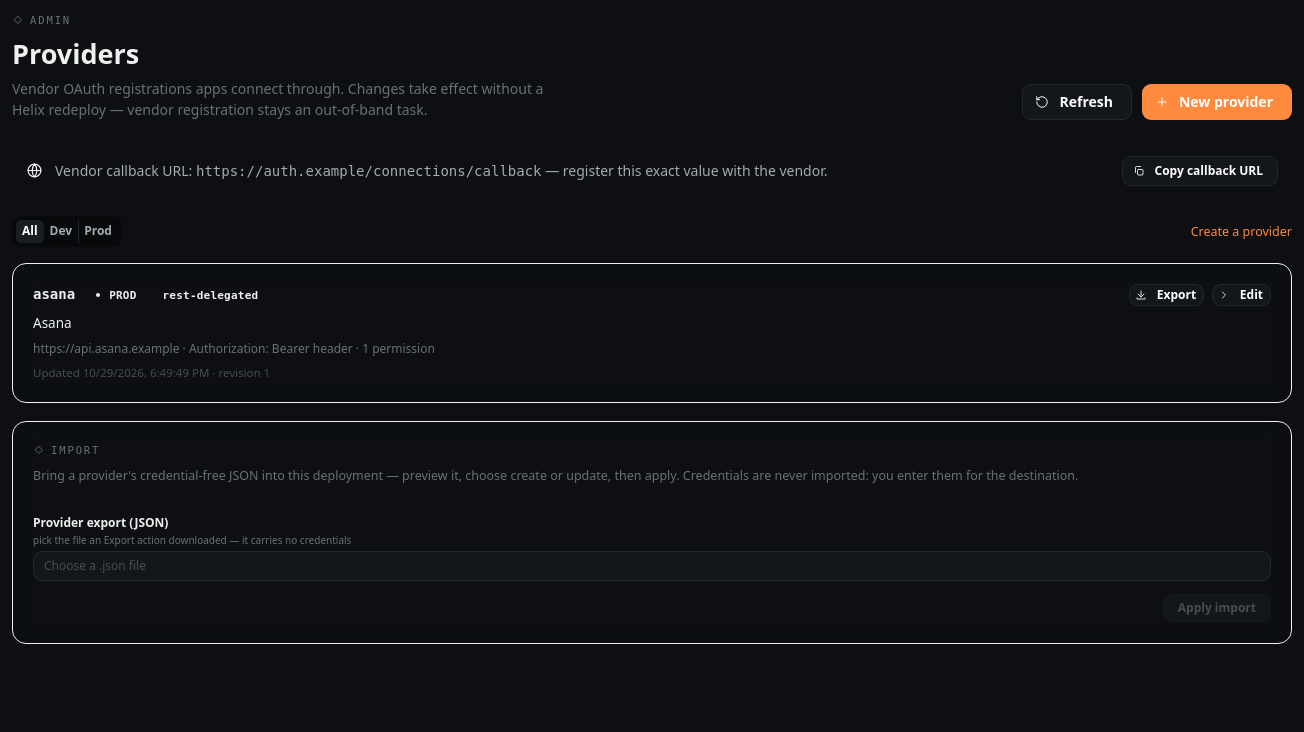
it: provider export › refuses a drifted response that is not a complete export — even one carrying credential fields
This screenshot has width=1304, height=732.
expect the text "asana" is shown: met, box left=33, top=284, right=75, bottom=306
Click the button "Export".
click(1167, 294)  # box left=1129, top=284, right=1204, bottom=306
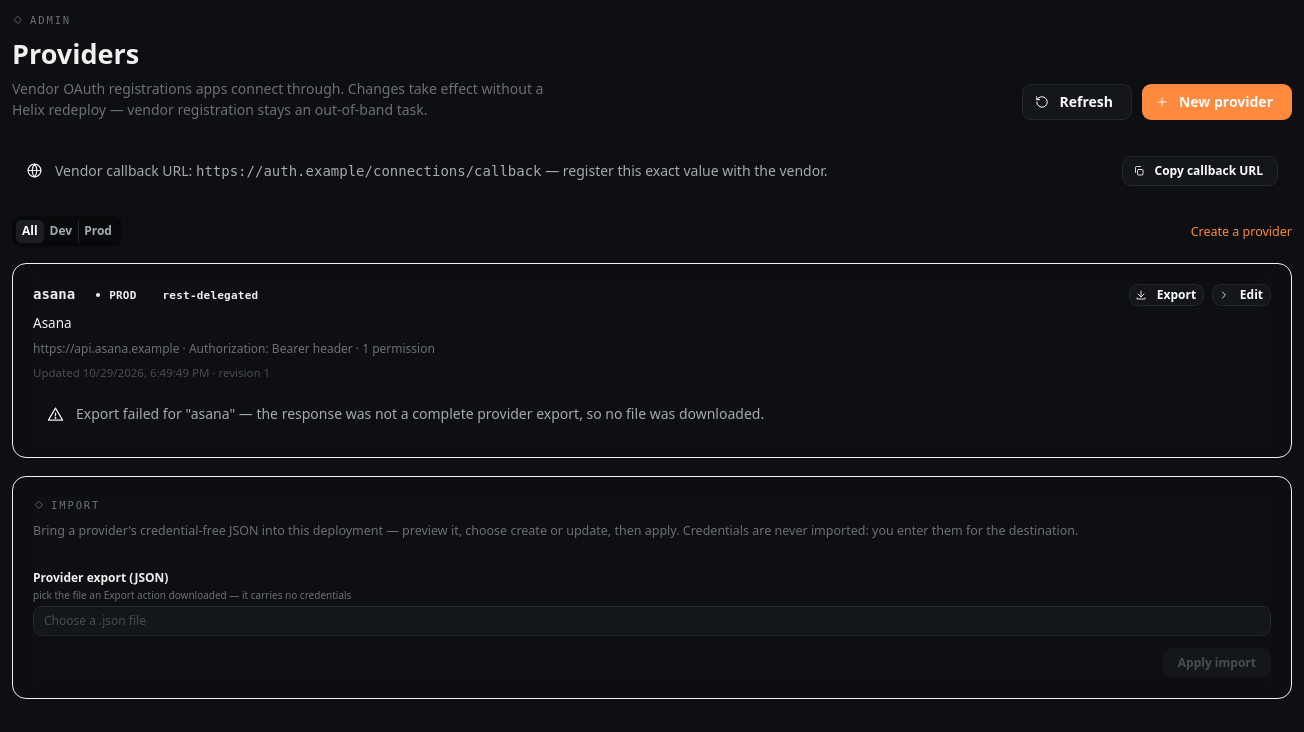
expect the message shows "not a complete provider export": met, box left=76, top=404, right=764, bottom=423
